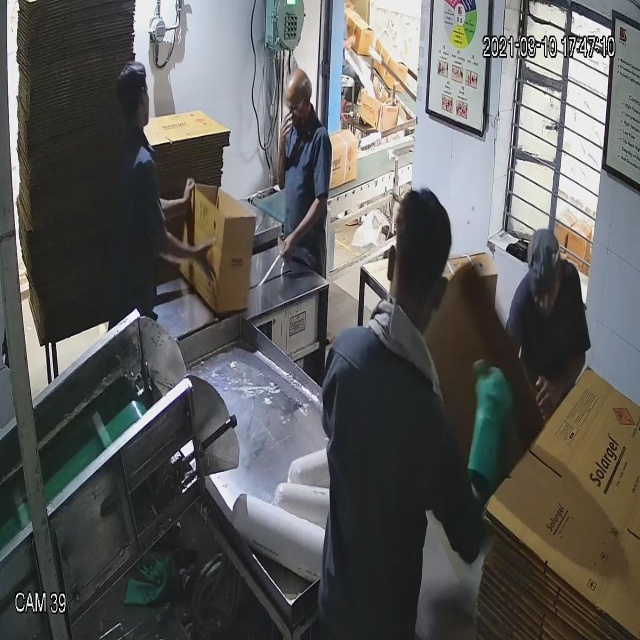Guantes: (466, 349, 509, 515)
Sin_guantes: (152, 204, 230, 306), (528, 330, 592, 426), (264, 185, 327, 270), (270, 106, 297, 198)
